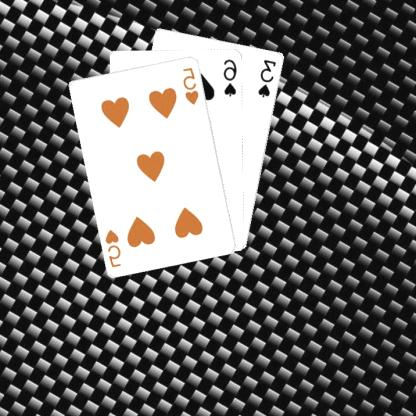3S: (258, 57, 280, 98)
5H: (104, 226, 125, 268), (182, 64, 202, 106)
6S: (223, 56, 240, 98)
